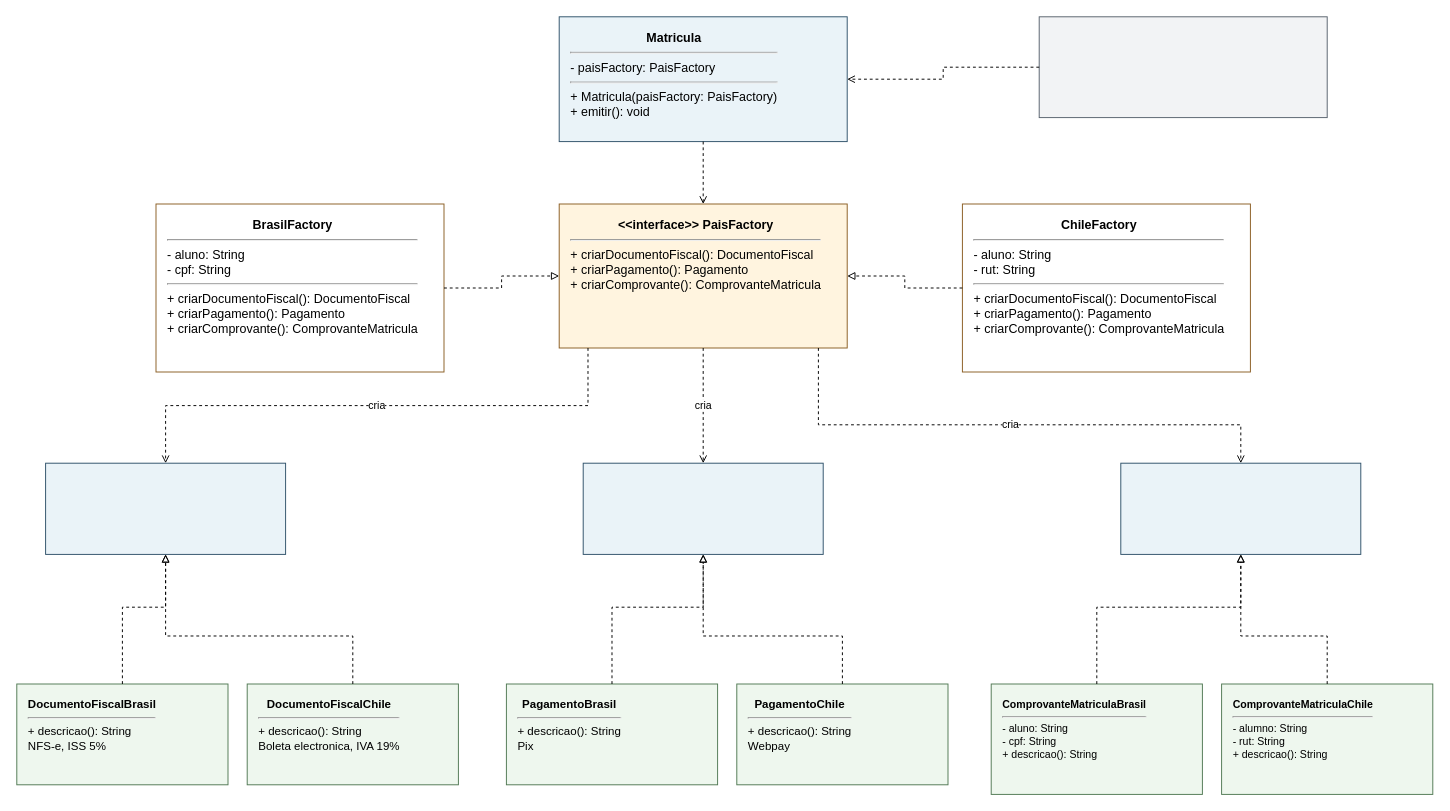
Image size: 1450x811. Some labels were removed from this diagram. The shapes that lost their labels are listed below. From the top down, each one's centre as x and y in pixels, then its label:
At point 1182,67: "Main + main(args: String[]): void instancia as fabricas e matriculas".
At point 165,508: "<<interface>> DocumentoFiscal + descricao(): String".
At point 702,508: "<<interface>> Pagamento + descricao(): String".
At point 1240,508: "<<interface>> ComprovanteMatricula + descricao(): String".
